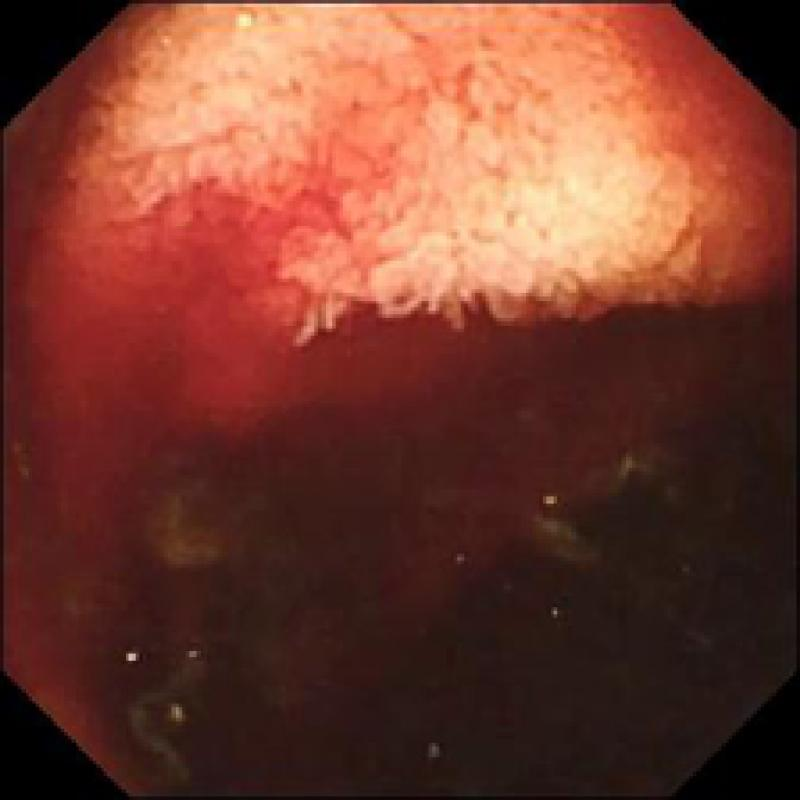bleeding: (0, 60, 589, 800)
